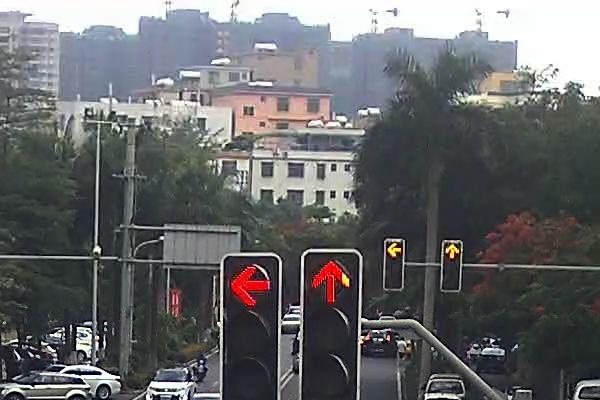redleft: (227, 264, 273, 310), (385, 240, 404, 259)
redstraight: (308, 259, 355, 304), (443, 244, 461, 260)
